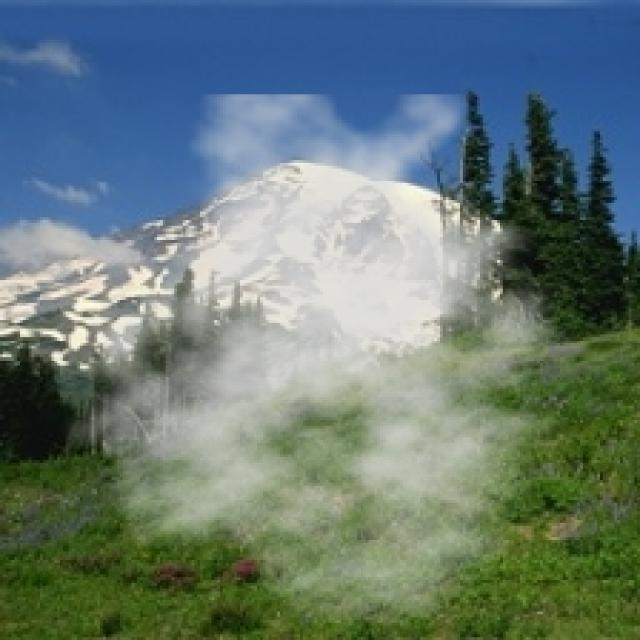smoke: (63, 94, 617, 629)
